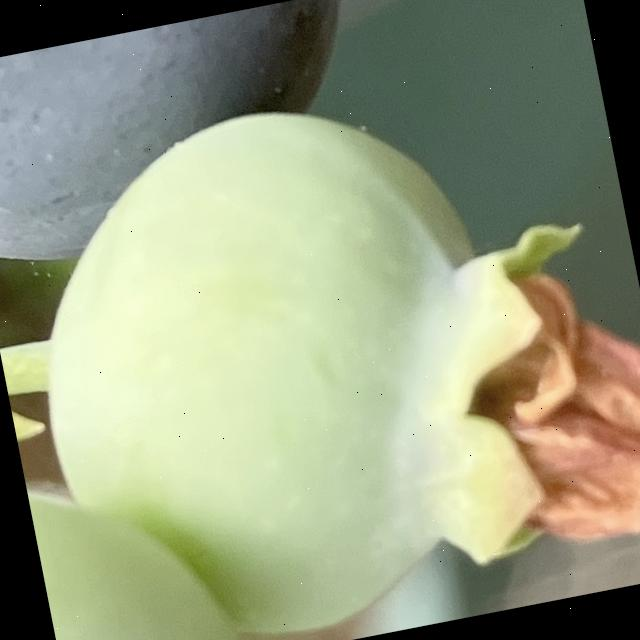Blueberries: (0, 51, 640, 640), (0, 0, 398, 274)
